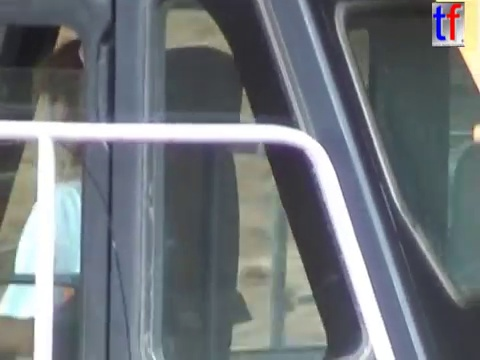truck: (1, 1, 480, 360)
worker: (1, 36, 199, 360)
